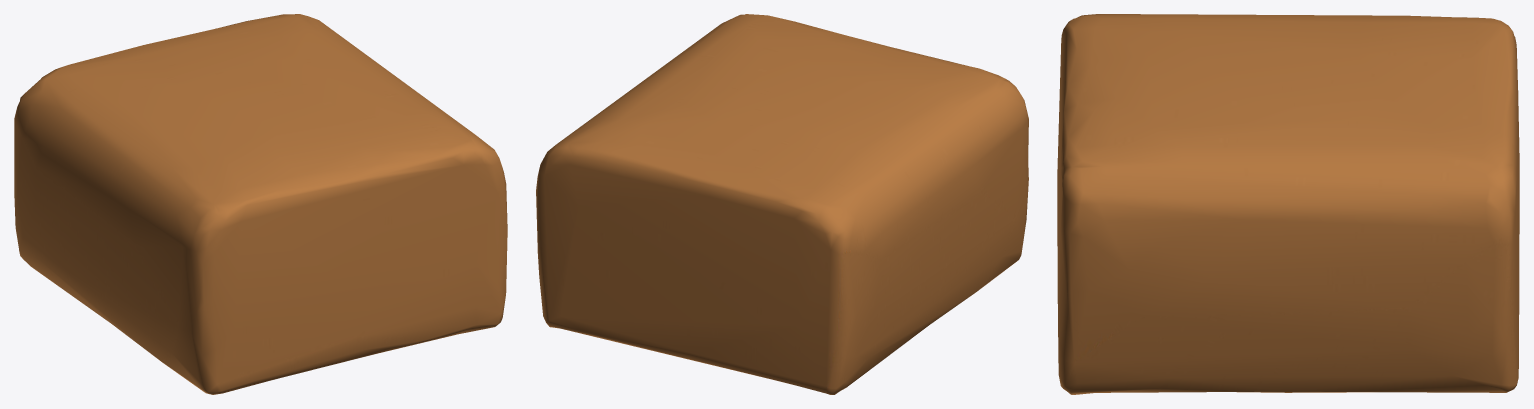
File: stockholm-pouf-80586139.glb
3 views of the same model, side by side, from view 1: azimuth 30°, elevation 25°; view 2: azimuth 150°, elevation 25°; view 3: azimuth 270°, elevation 25° (orthographic). The views are drawn at different scales.
Visible parts, largest first — view 1: ASY_ART_80586139_S01_NV01; view 2: ASY_ART_80586139_S01_NV01; view 3: ASY_ART_80586139_S01_NV01.
Part boxes in pixels (x1,y1,x2,y2): ASY_ART_80586139_S01_NV01: [14, 14, 507, 394]; ASY_ART_80586139_S01_NV01: [536, 14, 1028, 394]; ASY_ART_80586139_S01_NV01: [1057, 14, 1519, 394].
Bounding box in the file's own units: 0.6577 × 0.4036 × 0.6895.
1 material, 1 textured.
